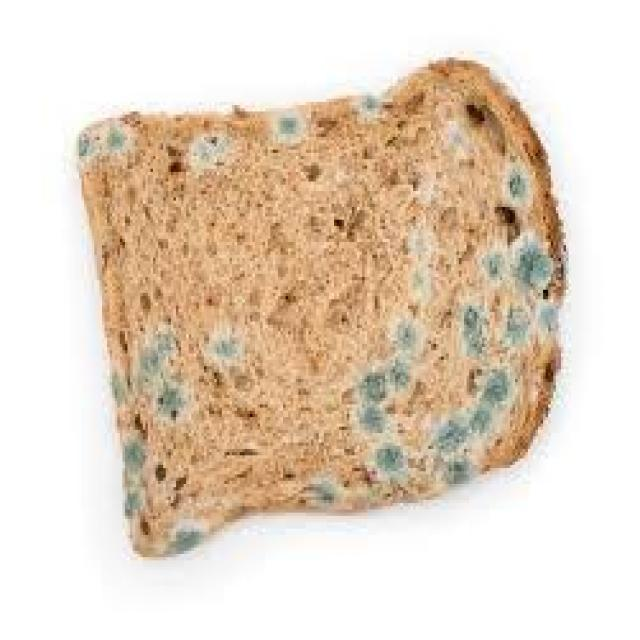Wet Waste: (101, 117, 640, 640)
